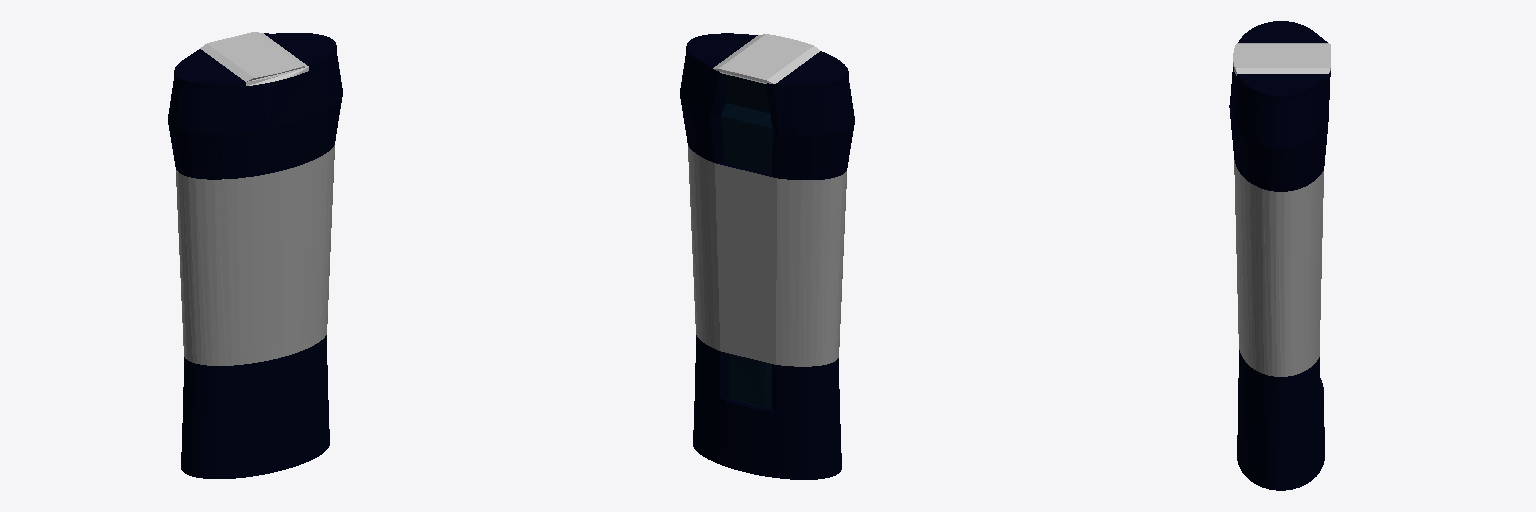
The model's file is soap_4smooth.obj.
3 renders of one model, left to right at view 1: azimuth 30°, elevation 25°; view 2: azimuth 150°, elevation 25°; view 3: azimuth 270°, elevation 25°, orthographic.
Parts seen in each view (by area): view 1: body_soap_Cube; view 2: body_soap_Cube; view 3: body_soap_Cube.
Boxes of the visible parts, <box> form: body_soap_Cube: <box>168,32,342,478</box>; body_soap_Cube: <box>680,33,854,479</box>; body_soap_Cube: <box>1229,21,1330,490</box>.
Size of the model in its own units: 0.3834 by 0.8735 by 0.2002.